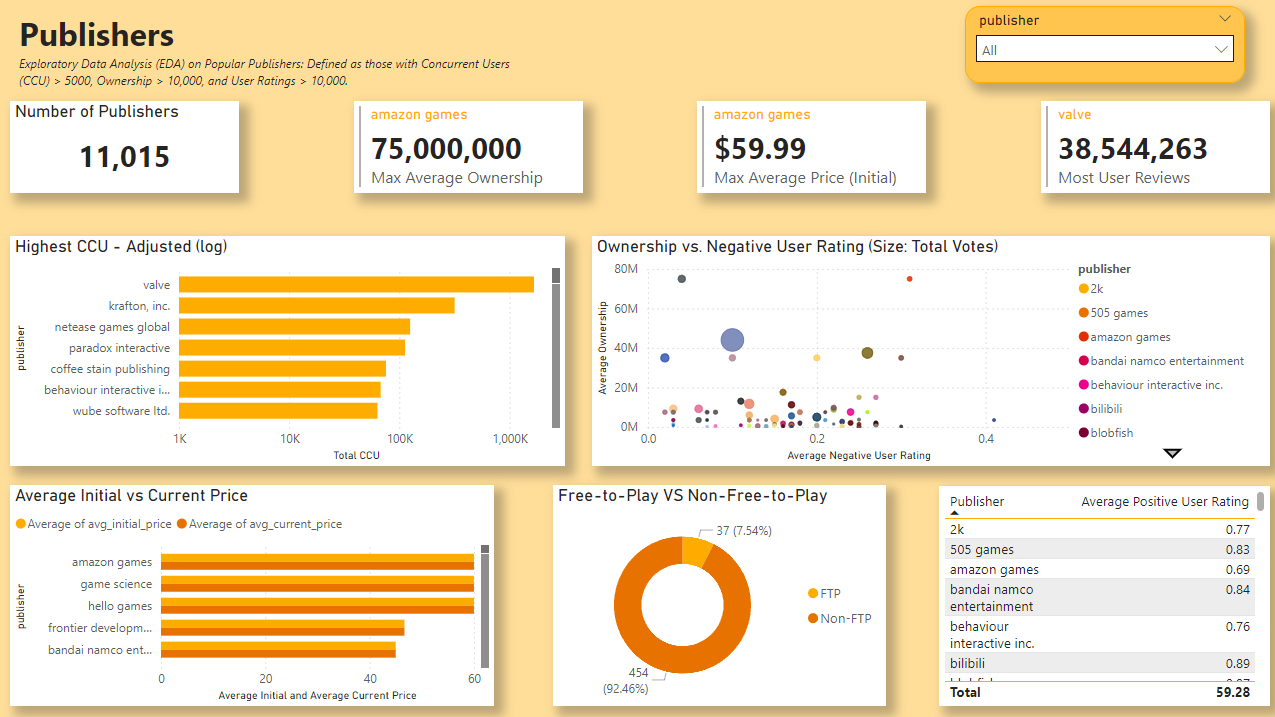

This screenshot's page, from the dashboard's own definition file:
{"tool":"powerbi","page":{"name":"Publishers","canvas":[1280,720],"ordinal":1},"visuals":[{"type":"card","title":"Number of Publishers","fields":{"Values":["Count(steam_info publishers_lookup.publisher)"]},"box":[11.7,101.7,229.1,92.4],"z":0},{"type":"clusteredBarChart","title":"Average Initial vs Current Price","fields":{"Category":["steam_info popular_pub_details.publisher"],"Y":["Avg(steam_info popular_pub_details.avg_initial_price)","Avg(steam_info popular_pub_details.avg_current_price)"]},"box":[11.7,486.2,484.7,220.6],"z":1000},{"type":"clusteredBarChart","title":"Highest CCU - Adjusted (log)","fields":{"Y":["Sum(steam_info popular_pub_details.total_ccu)"],"Category":["steam_info popular_pub_details.publisher"]},"box":[11.7,236.9,555.3,229.9],"z":2000},{"type":"textbox","box":[11.4,6.8,514.7,89.7],"z":3000},{"type":"slicer","fields":{"Values":["steam_info popular_pub_details.publisher"]},"box":[967.1,6.8,279.8,76.8],"z":4000},{"type":"multiRowCard","fields":{"Values":["steam_info popular_pub_details.Highest Ownership Name - Pub","Max(steam_info popular_pub_details.avg_ownership)"]},"box":[355.6,101.7,229,92],"z":5000},{"type":"multiRowCard","fields":{"Values":["steam_info popular_pub_details.Expensive Pub","Max(steam_info popular_pub_details.avg_initial_price)"]},"box":[699.3,101.7,229,92],"z":6000},{"type":"tableEx","fields":{"Values":["steam_info popular_pub_details.publisher","Sum(steam_info popular_pub_details.avg_pos_user_rating)"]},"box":[941.2,486.6,330.7,220.5],"z":7000},{"type":"donutChart","title":"Free-to-Play VS Non-Free-to-Play","fields":{"Y":["Sum(steam_info popular_pub_details.ftp_count)","Sum(steam_info popular_pub_details.non_ftp_count)"]},"box":[554.6,486.2,333.2,220.6],"z":8000},{"type":"multiRowCard","fields":{"Values":["steam_info popular_pub_details.Most Reviewed - Pub","Sum(steam_info popular_pub_details.total_votes)"]},"box":[1043.1,101.7,229.1,92.4],"z":9000},{"type":"scatterChart","title":"Ownership vs. Negative User Rating (Size: Total Votes)","fields":{"Category":["steam_info popular_pub_details.publisher"],"X":["Sum(steam_info popular_pub_details.avg_neg_user_rating)"],"Y":["Sum(steam_info popular_pub_details.avg_ownership)"],"Size":["Sum(steam_info popular_pub_details.total_votes)"],"Series":["steam_info popular_pub_details.publisher"]},"box":[594.2,236.9,678.1,229.9],"z":10000}]}

Visuals, with their boxes in screenshot pixels (x1, y1, x2, y2), scaled from the page's 1280x720 canvas onto the 1275x717 screenshot:
"Number of Publishers" card: box=[12, 101, 240, 193]
"Average Initial vs Current Price" clusteredBarChart: box=[12, 484, 494, 704]
"Highest CCU - Adjusted (log)" clusteredBarChart: box=[12, 236, 565, 465]
textbox: box=[11, 7, 524, 96]
slicer - steam_info popular_pub_details.publisher: box=[963, 7, 1242, 83]
multiRowCard - steam_info popular_pub_details.Highest Ownership Name - Pub x Max(steam_info popular_pub_details.avg_ownership): box=[354, 101, 582, 193]
multiRowCard - steam_info popular_pub_details.Expensive Pub x Max(steam_info popular_pub_details.avg_initial_price): box=[697, 101, 925, 193]
tableEx - steam_info popular_pub_details.publisher x Sum(steam_info popular_pub_details.avg_pos_user_rating): box=[938, 485, 1267, 704]
"Free-to-Play VS Non-Free-to-Play" donutChart: box=[552, 484, 884, 704]
multiRowCard - steam_info popular_pub_details.Most Reviewed - Pub x Sum(steam_info popular_pub_details.total_votes): box=[1039, 101, 1267, 193]
"Ownership vs. Negative User Rating (Size: Total Votes)" scatterChart: box=[592, 236, 1267, 465]
